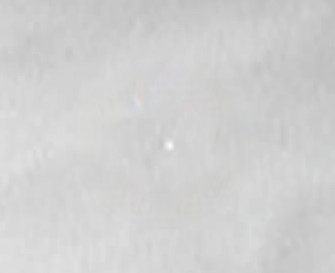Target: (167, 142, 172, 149)
